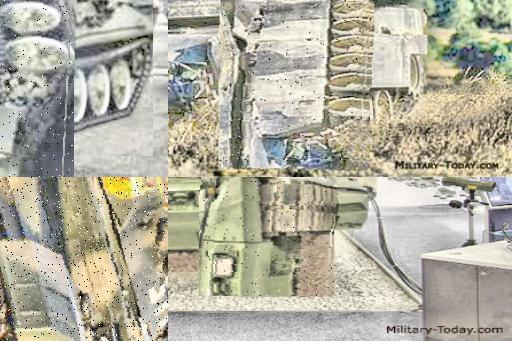tanks: (1, 178, 169, 341), (220, 1, 372, 170), (200, 178, 336, 297), (1, 1, 74, 178), (1, 178, 41, 341)
